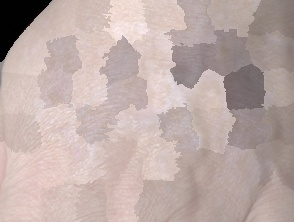vitiligo: (14, 0, 294, 213)
